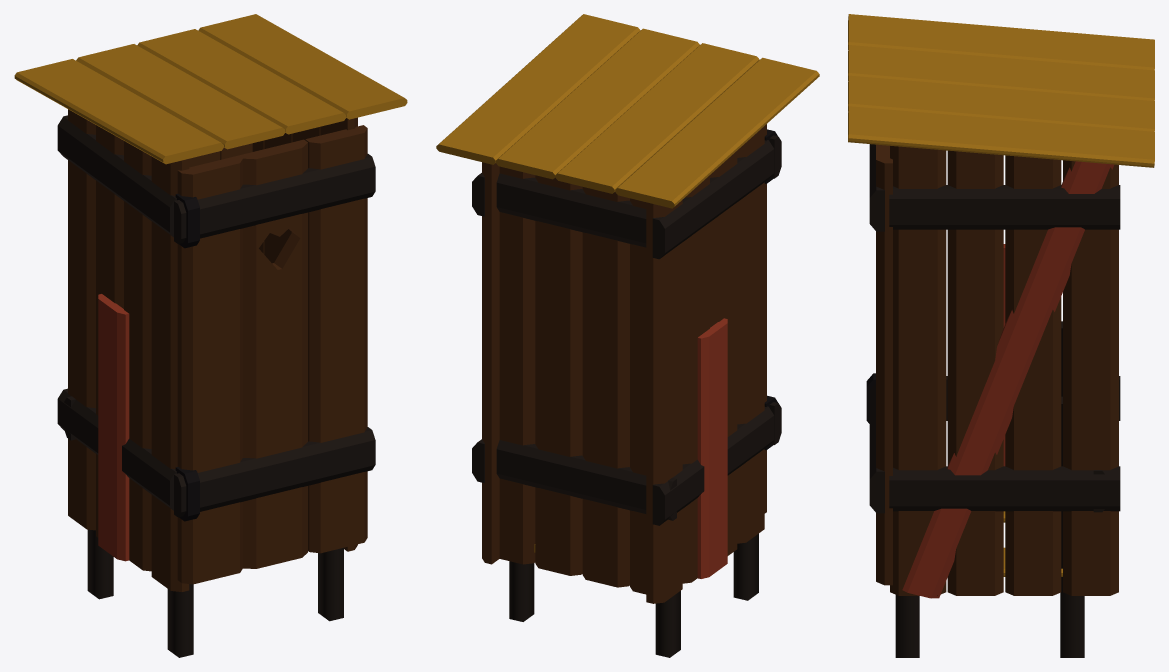
Rendered from restroom.FBX.
The picture shows the model from 3 angles, left to right: view 1: azimuth 30°, elevation 25°; view 2: azimuth 150°, elevation 25°; view 3: azimuth 270°, elevation 25°; orthographic projection. The views are drawn at different scales.
Visible parts, largest first — view 1: restroom 3, Box025, Box012, Box009, Box007, Box028, Box029, Box011, Box040, Box038, Box039, Box013 (+7 smaller); view 2: Box033, Box034, Box009, Box035, Box007, Box040, Box038, Box039, Box012, Box013, Box016, Box010 (+10 smaller); view 3: Box016, Box019, Box018, Box017, Box020, Box038, Box007, Box039, Box040, Box021, Box022, restroom 3 (+4 smaller).
Boxes of the visible parts, x1,y1,x2,y2 form: restroom 3: (177,125,367,584); Box025: (238,139,307,568); Box012: (151,156,189,591); Box009: (68,109,95,530); Box007: (14,59,223,164); Box028: (174,154,375,248); Box029: (174,427,375,521); Box011: (124,141,151,571); Box040: (76,44,285,149); Box038: (198,14,407,119); Box039: (137,29,346,134); Box013: (98,294,129,561); Box033: (582,187,629,587); Box034: (535,175,582,575); Box009: (646,200,682,603); Box035: (499,166,535,564); Box007: (615,57,819,208); Box040: (555,43,759,193); Box038: (436,14,640,164); Box039: (496,28,699,179); Box012: (737,126,764,543); Box013: (697,318,727,578); Box016: (482,162,499,564); Box010: (682,175,709,583); Box016: (1063,160,1118,595); Box019: (890,146,946,595); Box018: (947,150,1003,595); Box017: (1005,155,1061,595); Box020: (902,161,1113,598); Box038: (848,106,1154,167); Box007: (848,14,1154,70); Box039: (848,75,1154,131); Box040: (848,45,1154,100); Box021: (889,185,1120,229); Box022: (889,466,1120,511); restroom 3: (876,144,892,585).
Size of the model in its own units: 3.65 by 7.53 by 3.86.
